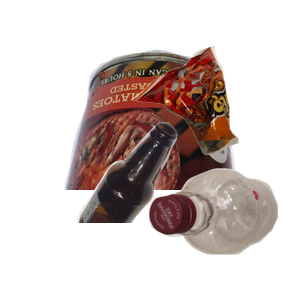glass: (74, 120, 244, 300)
metal: (62, 47, 300, 227)
plastic: (146, 166, 300, 300)
trash: (130, 43, 300, 190)
